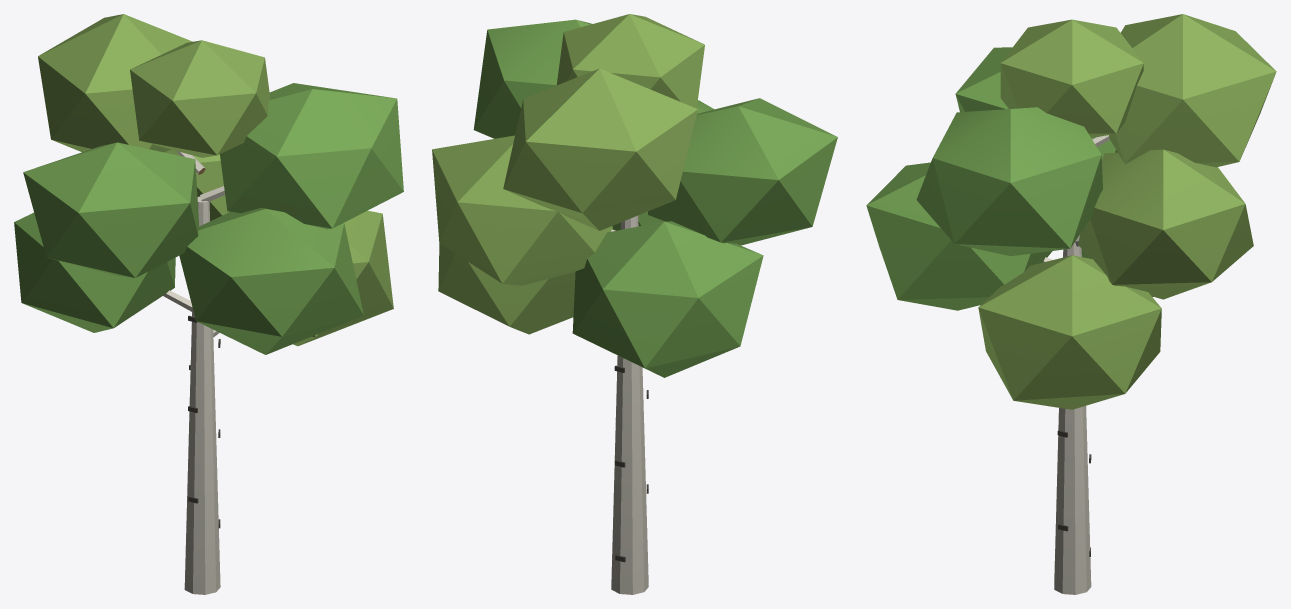
The model's file is tree_birch.glb.
3 views of the same model, side by side, from view 1: azimuth 30°, elevation 25°; view 2: azimuth 150°, elevation 25°; view 3: azimuth 270°, elevation 25° (orthographic). The views are drawn at different scales.
Parts seen in each view (by area): view 1: tree_birch; view 2: tree_birch; view 3: tree_birch.
Part boxes in pixels (box(x1,y1,x2,y2)): tree_birch: box(14, 14, 403, 594); tree_birch: box(432, 14, 837, 594); tree_birch: box(866, 14, 1276, 594).
Size of the model in its own units: 5.41 by 8.18 by 5.36.
